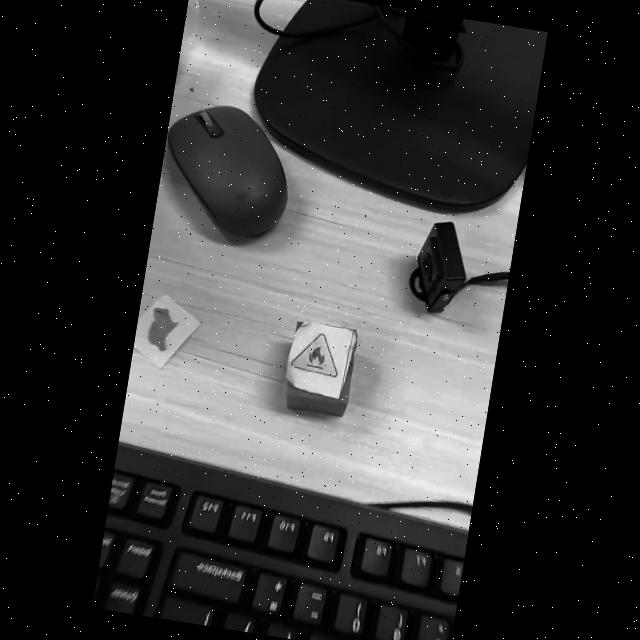Fire: (293, 334, 338, 377)
